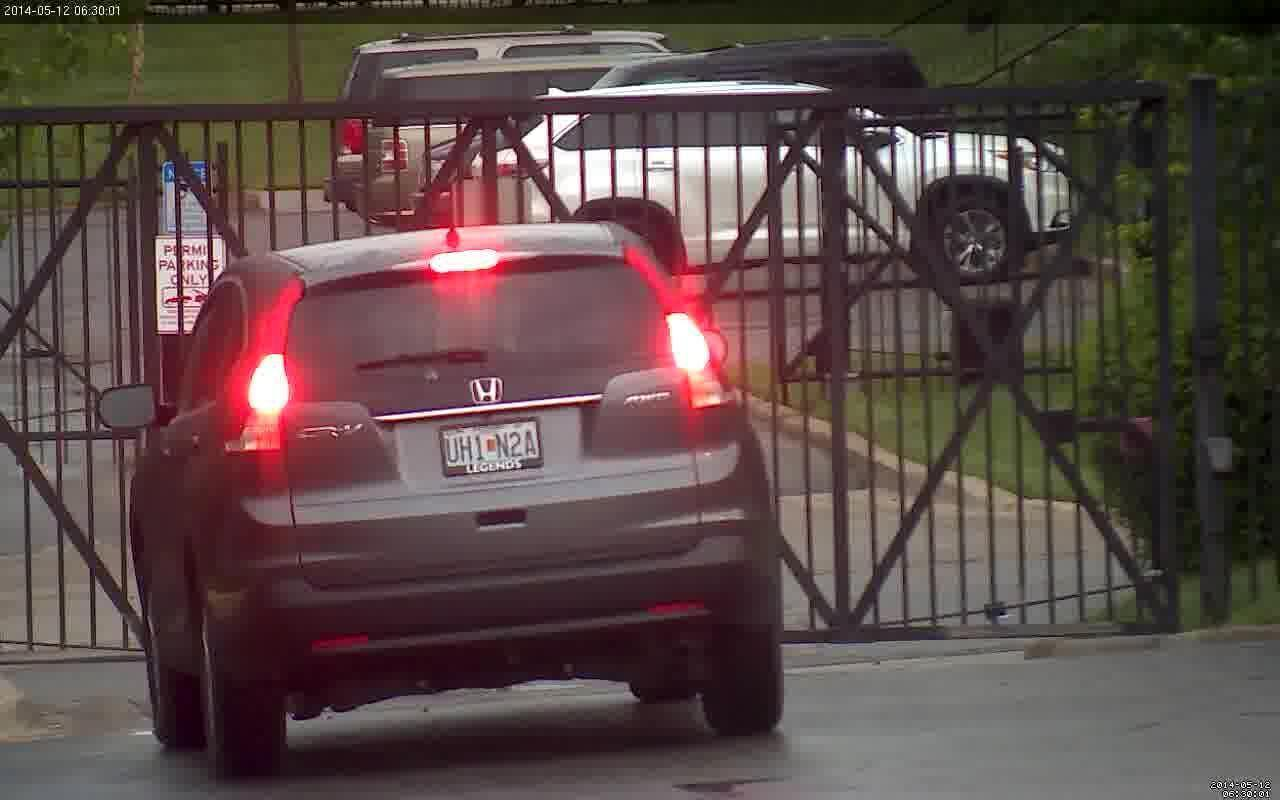placa de veiculo: (434, 394, 557, 488)
